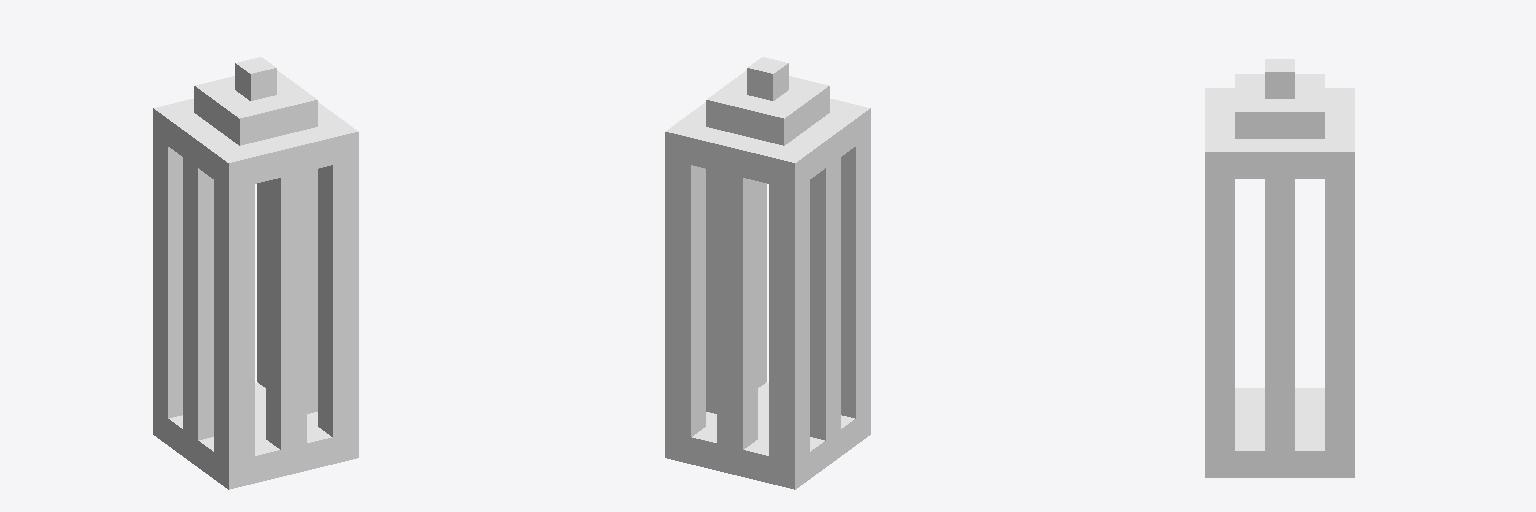
3 renders of one model, left to right at view 1: azimuth 30°, elevation 25°; view 2: azimuth 150°, elevation 25°; view 3: azimuth 270°, elevation 25°, orthographic.
Visible parts, largest first — view 1: LD-3; view 2: LD-3; view 3: LD-3.
Part boxes in pixels (left/top/right/bottom): LD-3: left=153, top=57, right=358, bottom=489; LD-3: left=665, top=57, right=870, bottom=489; LD-3: left=1205, top=59, right=1354, bottom=477.
Bounding box in the file's own units: 5 × 14 × 5.